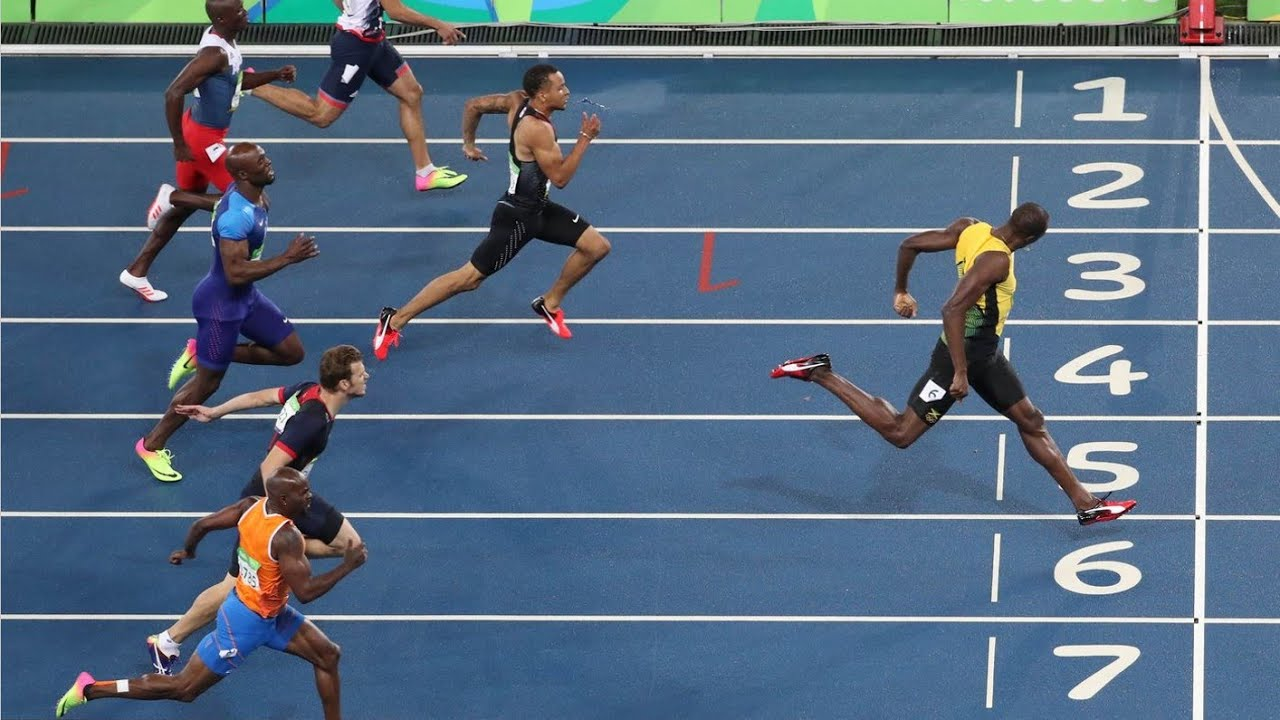runner: (769, 200, 1142, 525), (54, 466, 387, 718), (373, 63, 617, 364), (161, 345, 373, 662), (129, 143, 319, 485), (118, 1, 297, 299)
